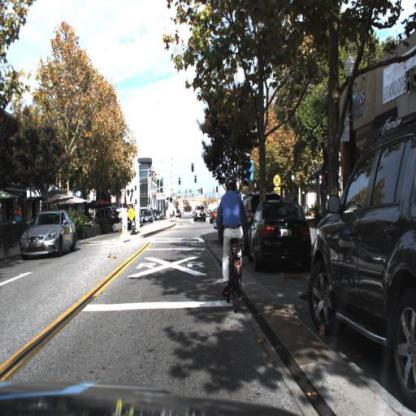biker: (221, 175, 246, 319)
car: (310, 114, 416, 396), (247, 200, 313, 273), (19, 208, 76, 261), (195, 203, 206, 222)
